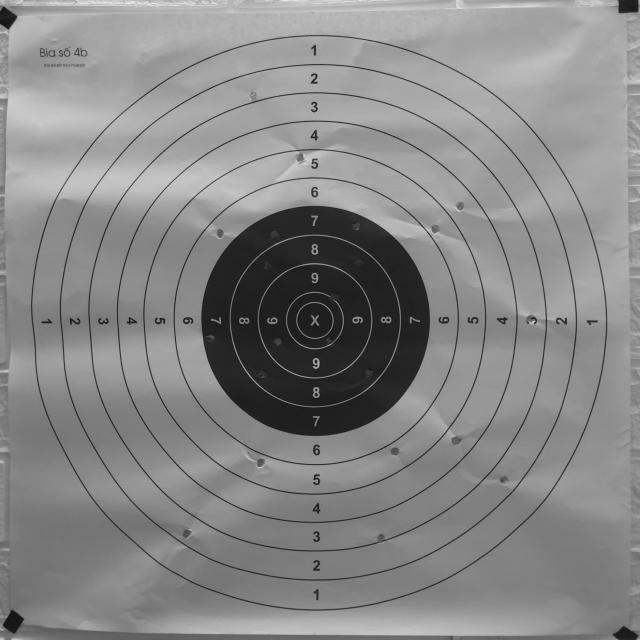bullet: (376, 532, 388, 543), (256, 368, 268, 379), (204, 332, 215, 343), (325, 336, 336, 346), (456, 200, 464, 212), (216, 228, 224, 240), (272, 340, 284, 348), (272, 228, 280, 240), (352, 220, 360, 232), (296, 152, 304, 164), (184, 528, 192, 539), (364, 368, 372, 379), (356, 256, 363, 267), (432, 224, 440, 232), (264, 260, 272, 268), (452, 436, 460, 444), (256, 460, 264, 468), (528, 316, 536, 324), (500, 476, 508, 484), (392, 448, 400, 455), (248, 92, 256, 99), (332, 292, 336, 299)
target: (4, 12, 624, 631)
